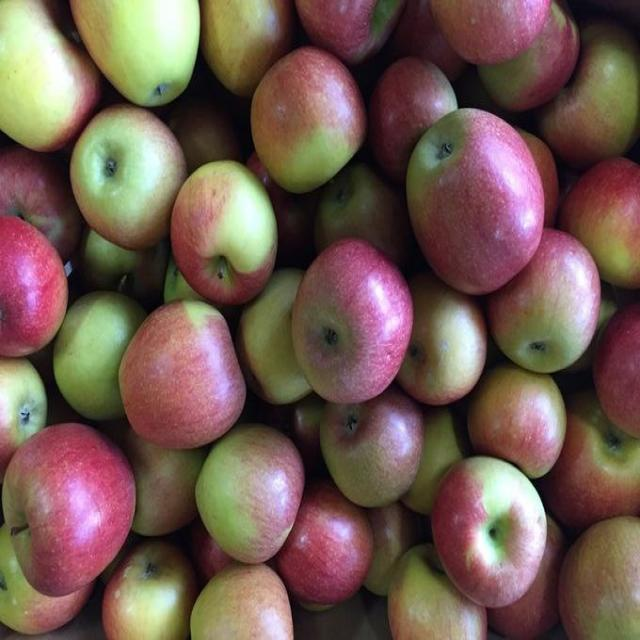Fresh Apple: (405, 112, 555, 293), (300, 232, 422, 425), (115, 298, 255, 457), (7, 438, 133, 602), (428, 467, 554, 603), (242, 55, 355, 198), (167, 173, 275, 292)
